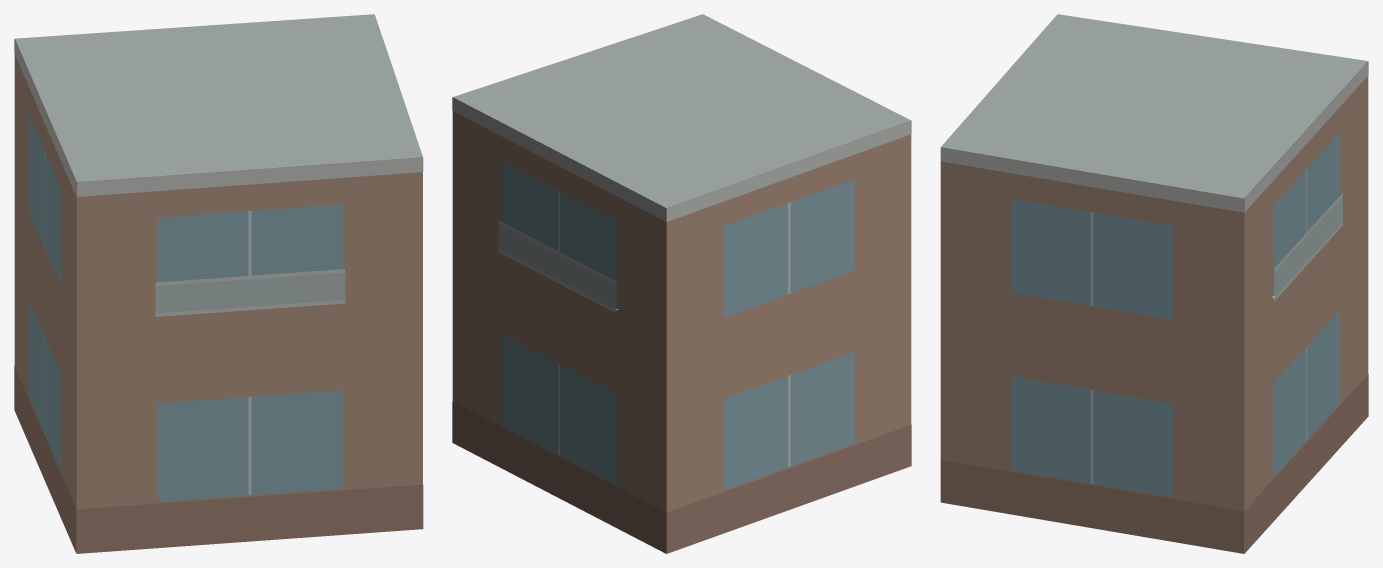
The model's file is survey-upis-32553033.glb.
The picture shows the model from 3 angles, left to right: view 1: azimuth 30°, elevation 25°; view 2: azimuth 150°, elevation 25°; view 3: azimuth 270°, elevation 25°; orthographic projection. The views are drawn at different scales.
Visible parts, largest first — view 1: survey-upis-32553033.tmp; view 2: survey-upis-32553033.tmp; view 3: survey-upis-32553033.tmp.
Part boxes in pixels (box(x1,y1,x2,y2)): survey-upis-32553033.tmp: box(14, 14, 423, 553); survey-upis-32553033.tmp: box(452, 14, 911, 553); survey-upis-32553033.tmp: box(940, 14, 1368, 553).
Size of the model in its own units: 6.81 by 6.1 by 6.67.
